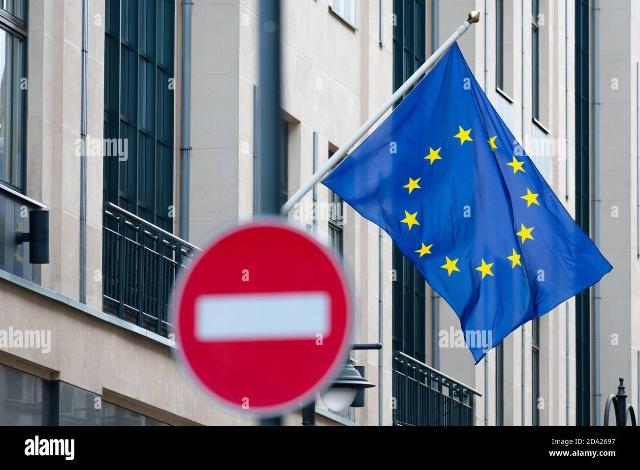B2: (171, 220, 355, 419)
